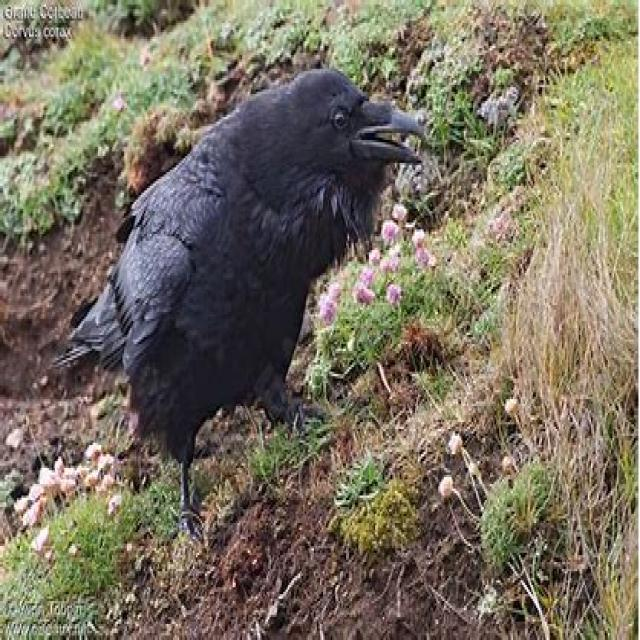crow: (52, 67, 426, 552)
